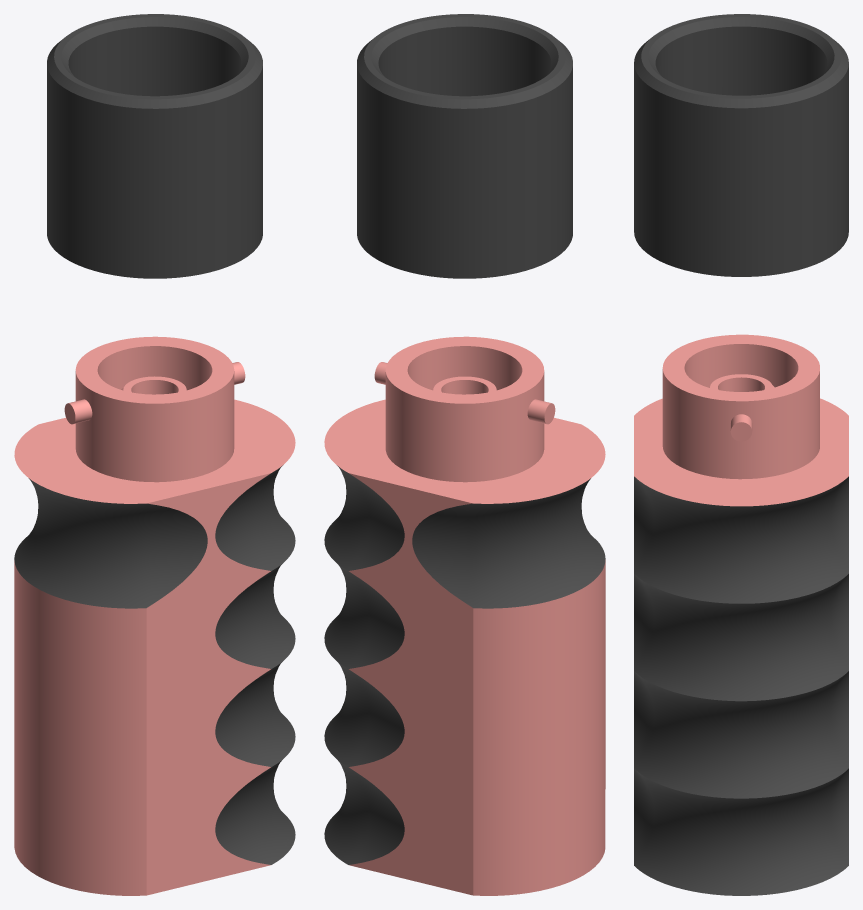
File: cologne-bottle.glb
3 views of the same model, side by side, from view 1: azimuth 30°, elevation 25°; view 2: azimuth 150°, elevation 25°; view 3: azimuth 270°, elevation 25° (orthographic).
Visible parts, largest first — view 1: Bottle project(Bottle)-1, Bottle project(cap)-1 (×2); view 2: Bottle project(Bottle)-1 (×2), Bottle project(cap)-1 (×2); view 3: Bottle project(Bottle)-1 (×2), Bottle project(cap)-1 (×2).
Boxes of the visible parts, x1,y1,x2,y2 form: Bottle project(Bottle)-1: (14, 336, 295, 895); Bottle project(cap)-1 (×2): (47, 14, 262, 278); Bottle project(Bottle)-1 (×2): (324, 336, 605, 895); Bottle project(cap)-1 (×2): (357, 14, 572, 278); Bottle project(Bottle)-1 (×2): (634, 334, 848, 895); Bottle project(cap)-1 (×2): (634, 14, 848, 276).
Bounding box in the file's own units: 0.0508 × 0.1524 × 0.0381.
